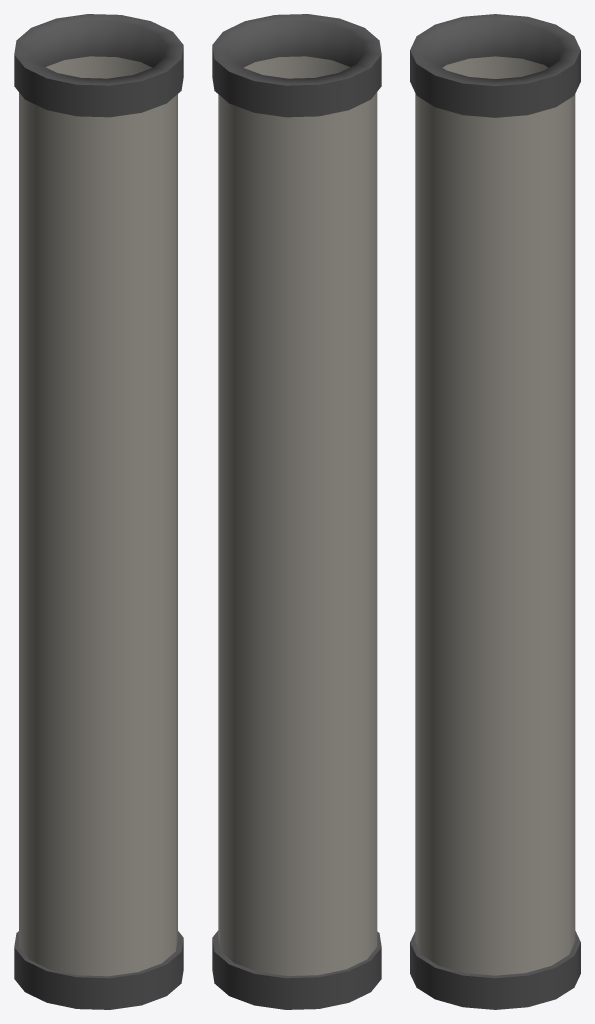
File: pipe_main_long.fbx
3 renders of one model, left to right at view 1: azimuth 30°, elevation 25°; view 2: azimuth 150°, elevation 25°; view 3: azimuth 270°, elevation 25°, orthographic.
Visible parts, largest first — view 1: pipe_main_long; view 2: pipe_main_long; view 3: pipe_main_long.
Part boxes in pixels (bbox=[...]): pipe_main_long: bbox=[14, 14, 183, 1009]; pipe_main_long: bbox=[212, 14, 381, 1009]; pipe_main_long: bbox=[410, 14, 580, 1009].
Size of the model in its own units: 46.39 by 277 by 46.39.
